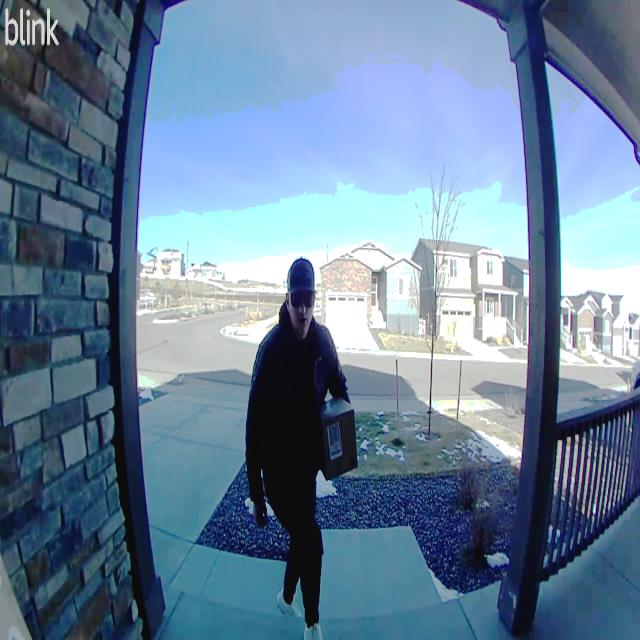Box: (321, 404, 359, 479)
